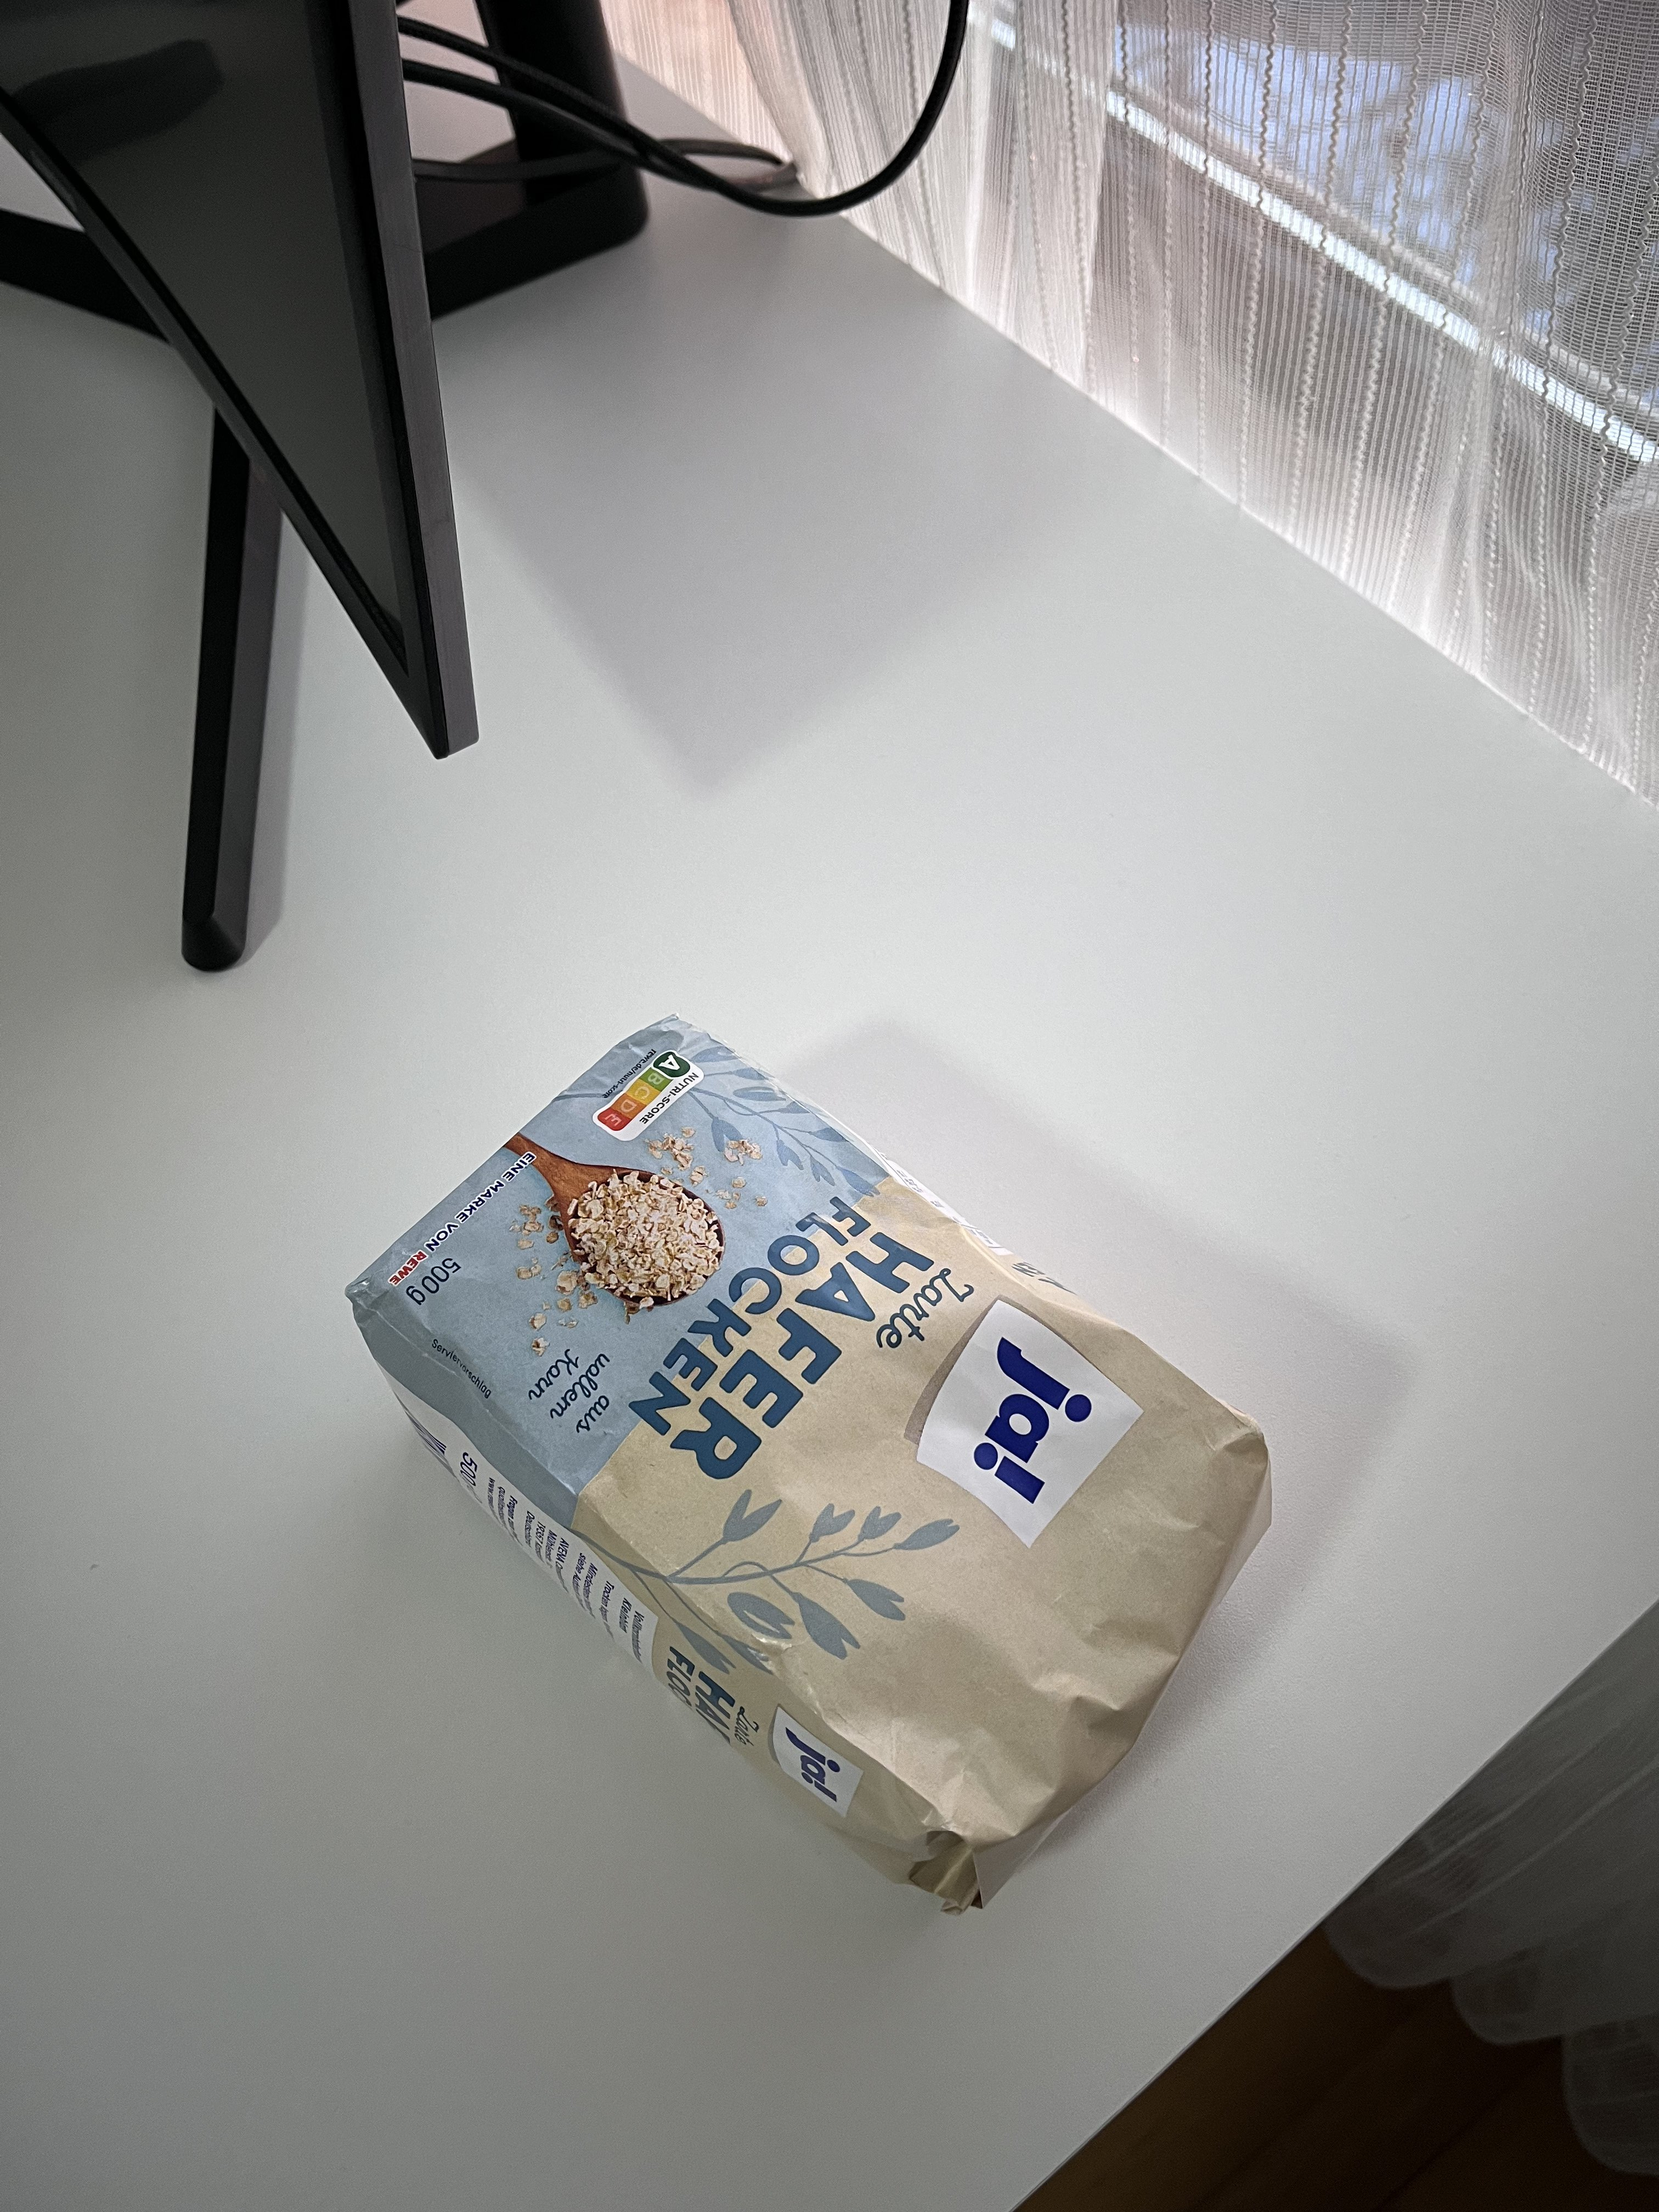haferflocken_ja: (347, 1014, 1267, 1911)
